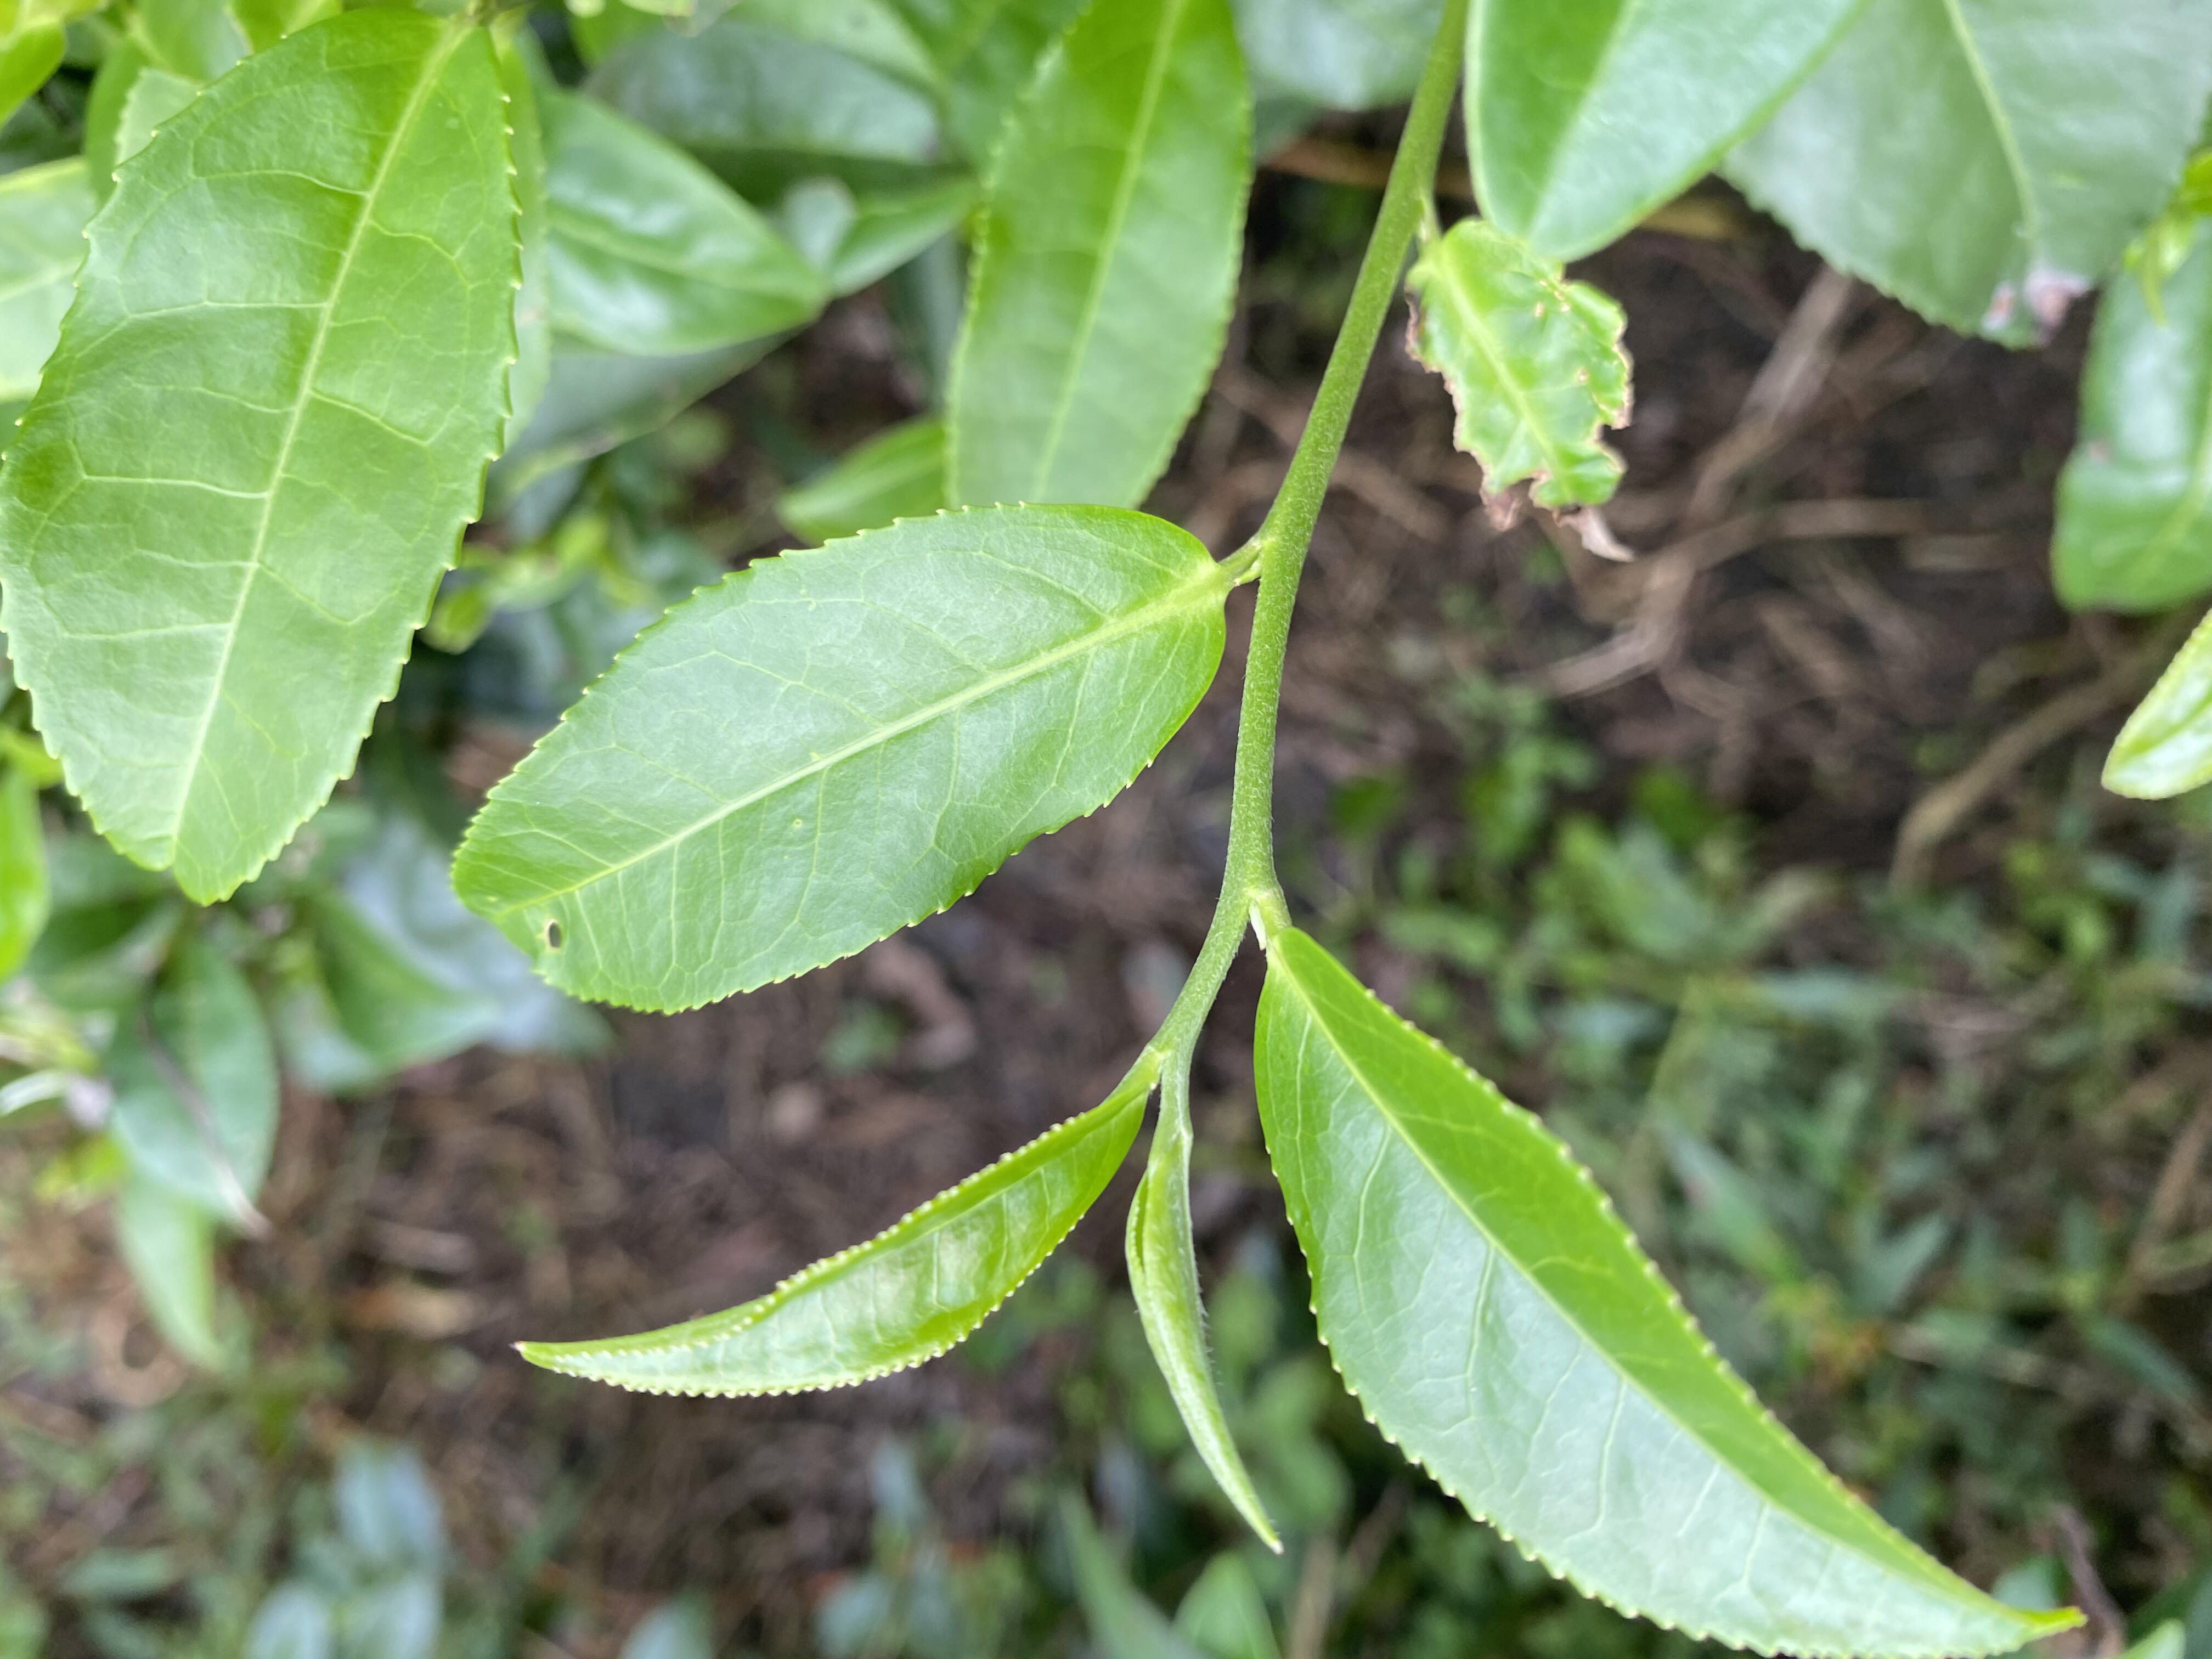chihuo_high: (1402, 213, 1642, 563)
chihuo_low: (444, 498, 1228, 1018)
healthy: (1249, 931, 2092, 1657), (2, 3, 528, 906), (509, 1084, 1144, 1401)
